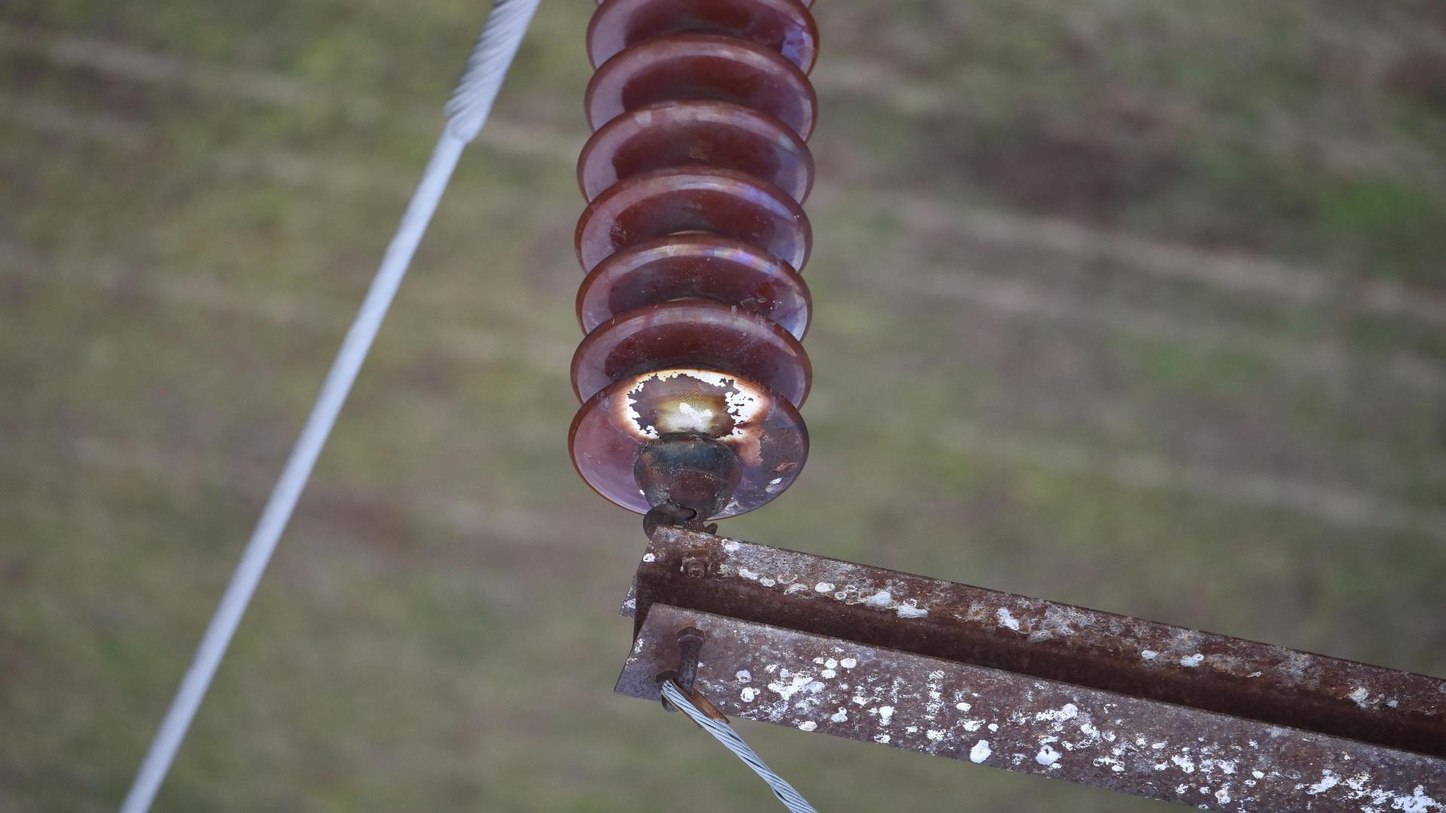insulator: (561, 1, 825, 527)
insulator_flashover: (623, 364, 768, 441)
